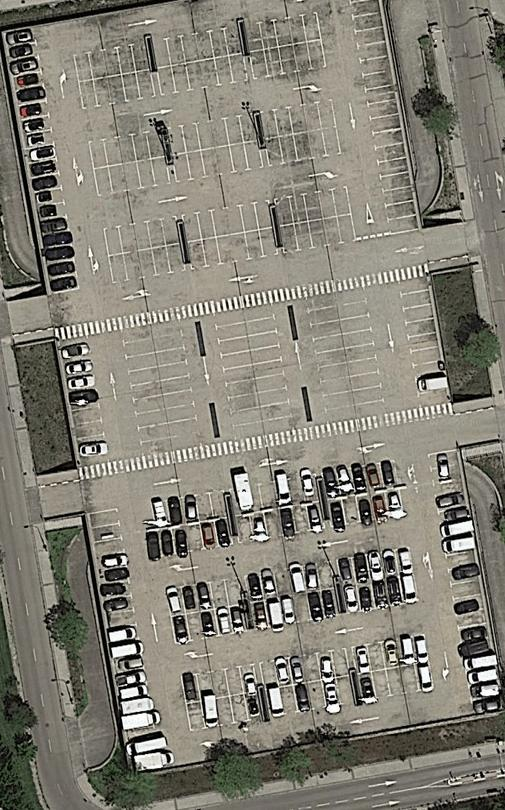parkingspot: (88, 508, 171, 775), (1, 26, 81, 294), (427, 449, 505, 715), (347, 0, 421, 236), (57, 335, 111, 468), (212, 307, 265, 441), (397, 275, 450, 409), (335, 287, 388, 420), (243, 302, 295, 436), (120, 324, 172, 457), (151, 319, 203, 452), (305, 293, 357, 425), (165, 111, 260, 157), (229, 471, 321, 517), (151, 24, 244, 69), (181, 198, 274, 243), (265, 674, 357, 719), (155, 52, 249, 96), (171, 140, 264, 184), (186, 227, 279, 271), (259, 647, 352, 691), (243, 559, 335, 603), (249, 587, 341, 631), (235, 501, 326, 544), (146, 517, 233, 561), (101, 215, 181, 259), (72, 39, 151, 83), (259, 97, 338, 141), (356, 661, 435, 705), (77, 68, 158, 110), (87, 128, 166, 171), (278, 212, 357, 255), (321, 458, 400, 501), (107, 243, 187, 285), (341, 573, 421, 615), (327, 487, 407, 529), (351, 633, 430, 675), (336, 546, 415, 588), (249, 39, 327, 81), (245, 11, 323, 53), (274, 185, 352, 227), (263, 127, 342, 168), (180, 663, 259, 704), (184, 691, 263, 732), (93, 156, 171, 197), (171, 604, 249, 645), (165, 576, 242, 617), (150, 489, 228, 529)
